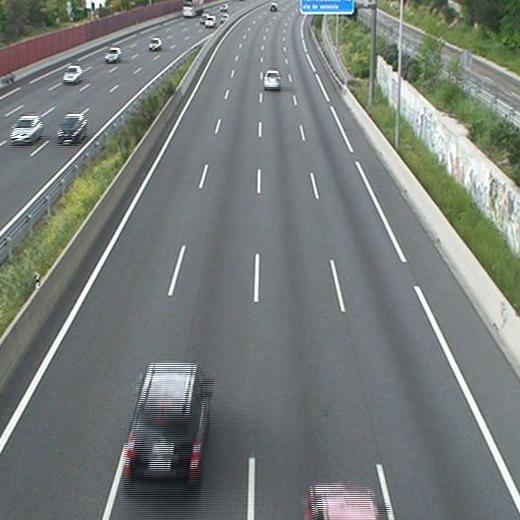car: (125, 363, 205, 487), (263, 71, 281, 90)
